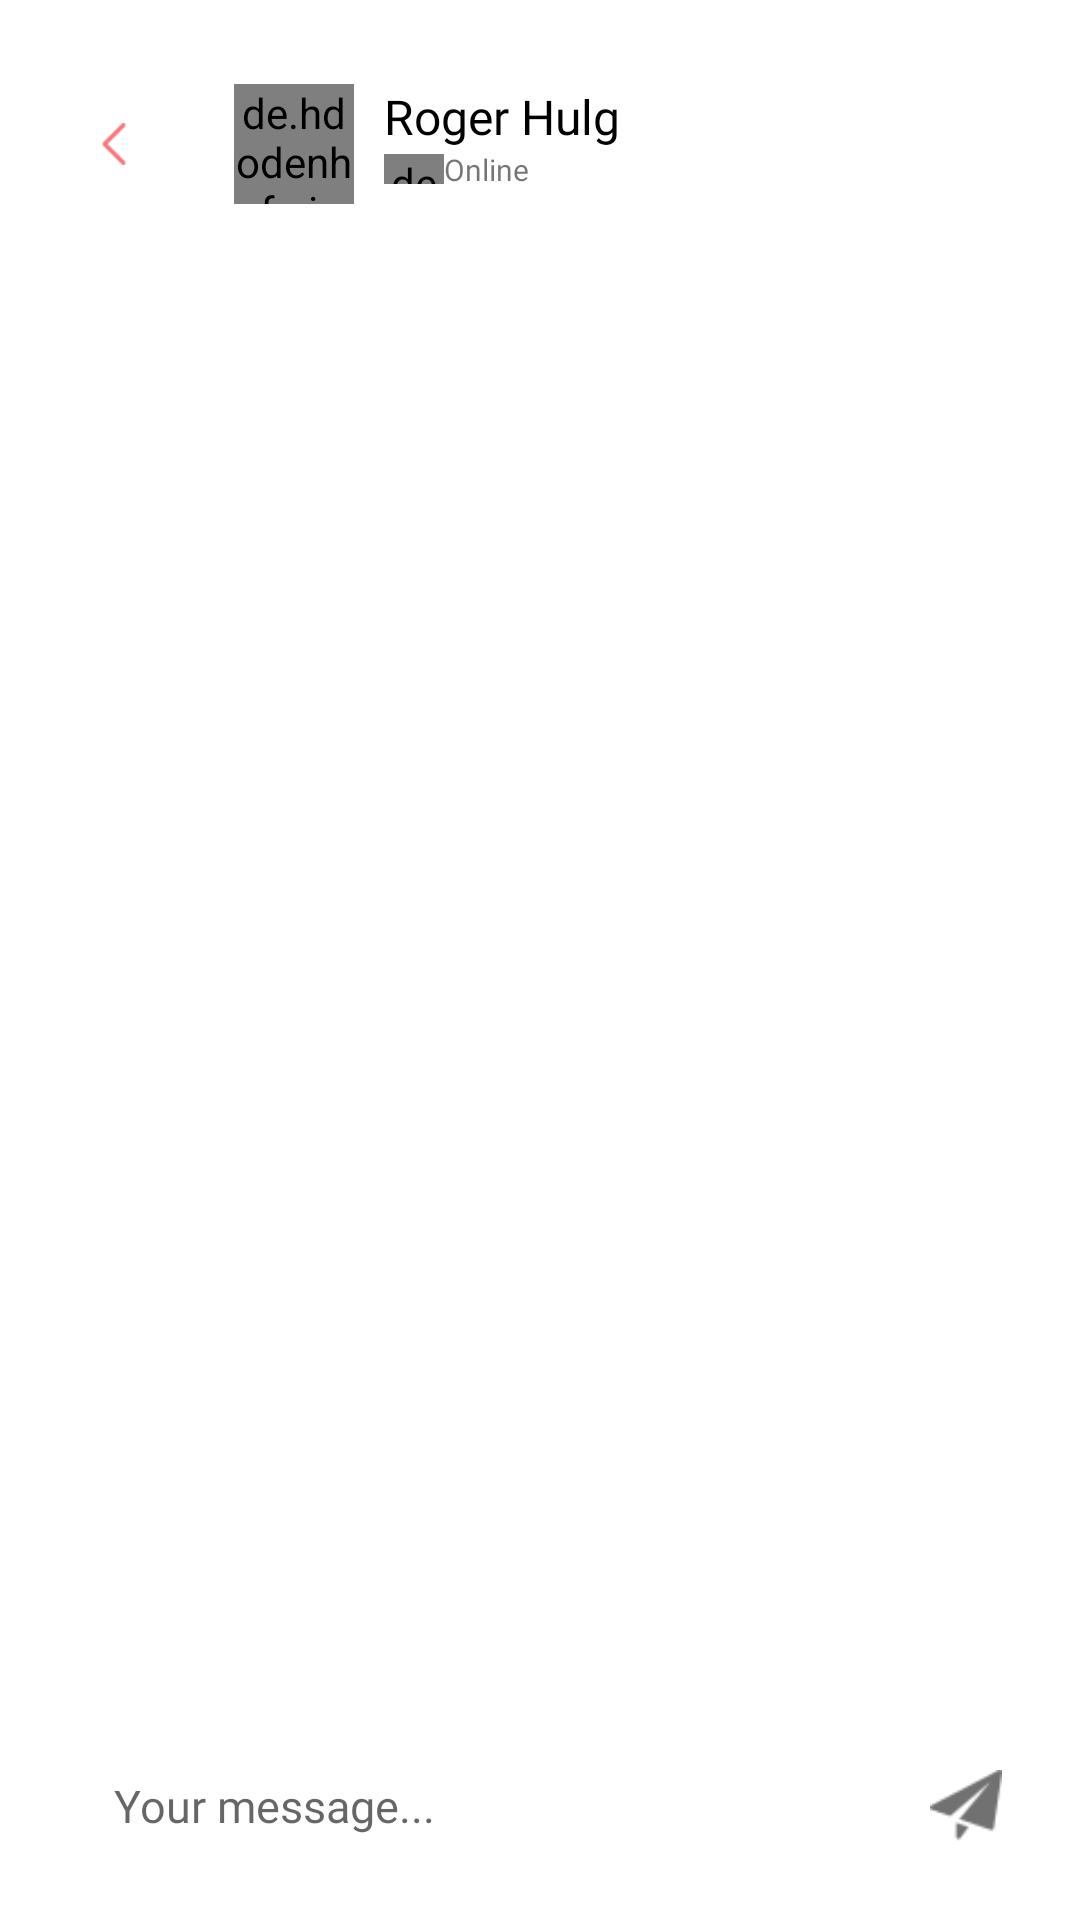

Where to tap for icons on this 1080*1920 app screen, as (x,y):
arrow back: (114,144)
send message: (966,1805)
